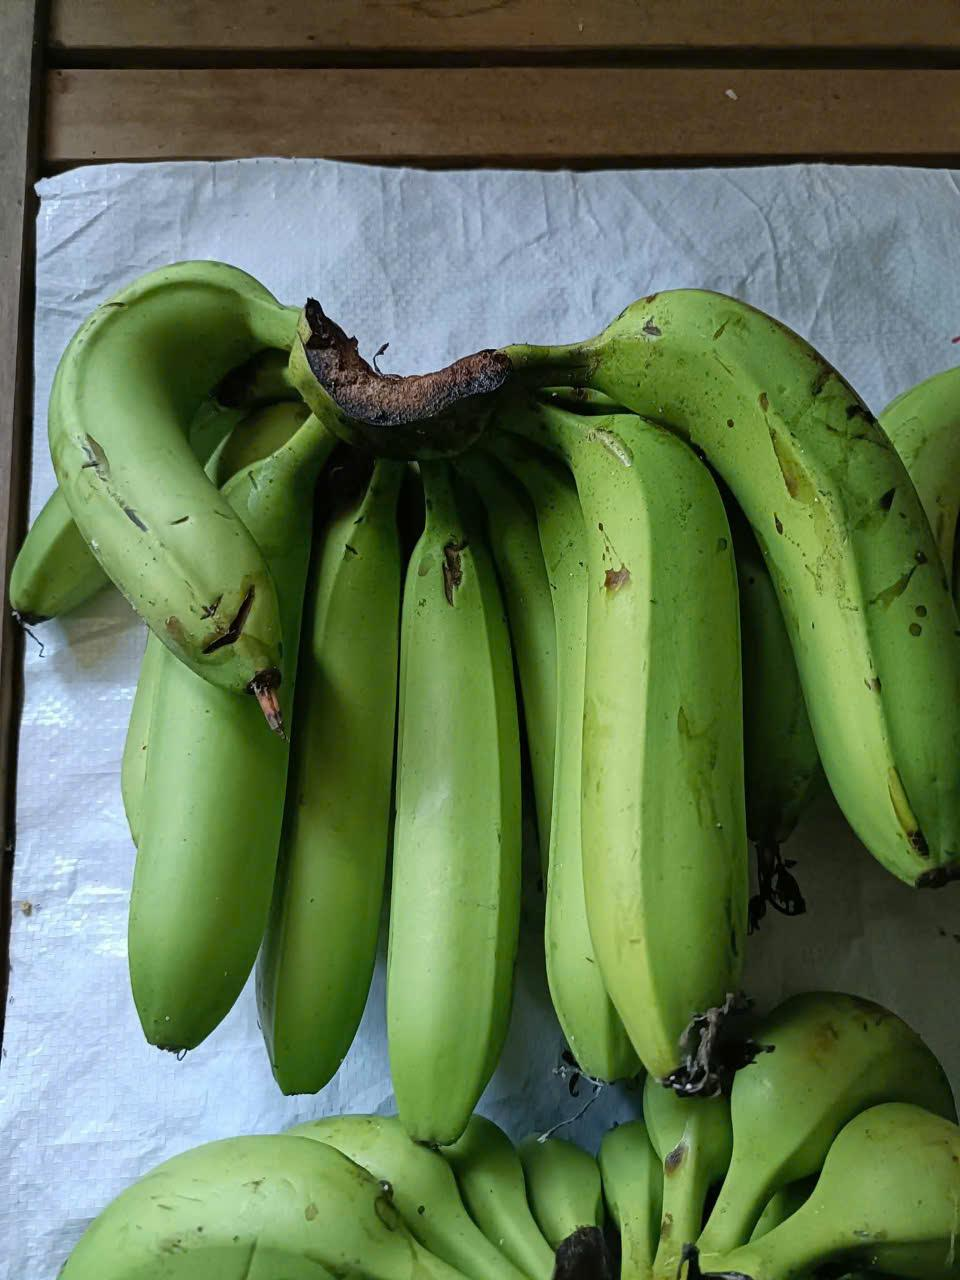banana: (497, 286, 960, 1046), (13, 197, 320, 1046), (285, 330, 523, 1125)
